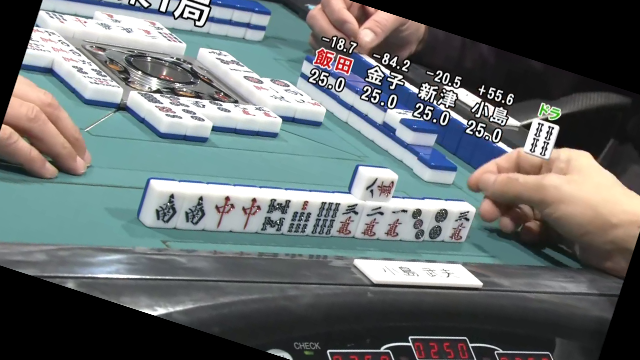Tehai: (142, 187, 477, 246)
